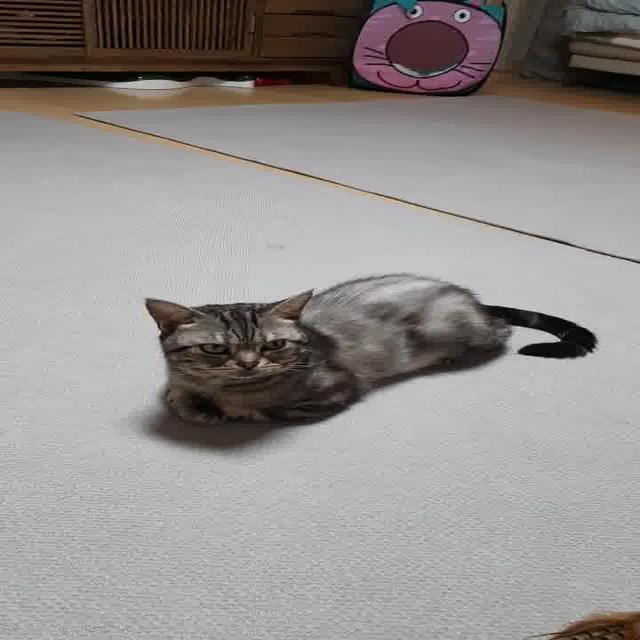cat: (100, 268, 610, 466)
